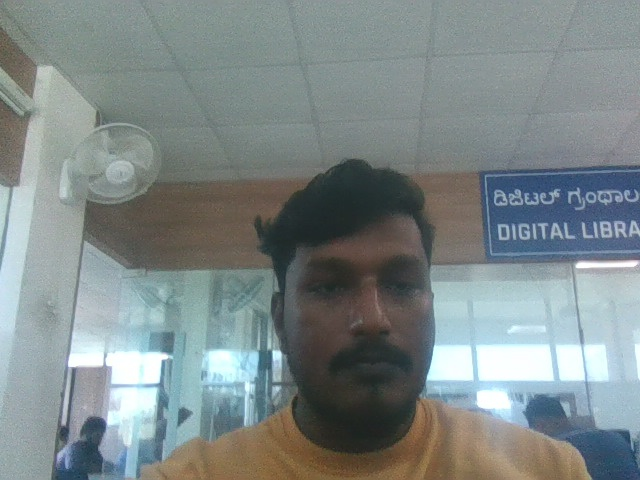real: (252, 138, 463, 437)
